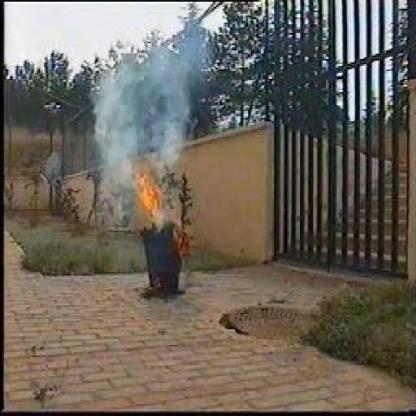-: (94, 59, 191, 173)
foggia-v2-map80-epoch100 - v1 4323: (137, 175, 191, 246)
